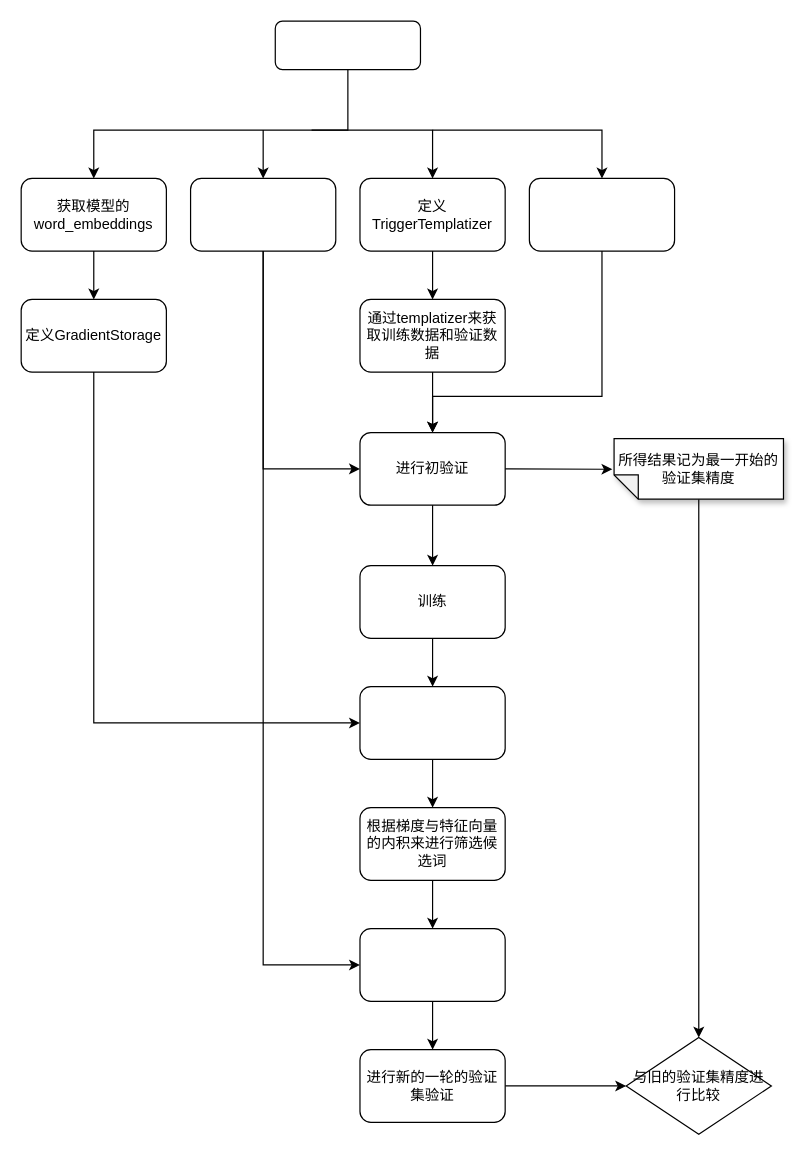
This 812x1156 diagram has some shape labels left out. The centre of each missing label's shape, as x and y in pixels:
"加载预训练模型" goes at point (347, 45).
"定义PredictWrapper" goes at point (262, 214).
"定义损失函数" goes at point (601, 214).
"对每个候选词进行精度计算，将精度高的候选词留下" goes at point (432, 964).
"每个epoch会经过accumulation_steps的梯度累积最后求平均" goes at point (432, 722).
